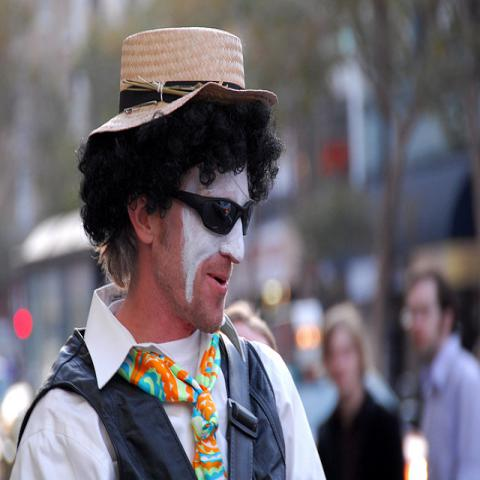bus: (1, 208, 107, 469)
